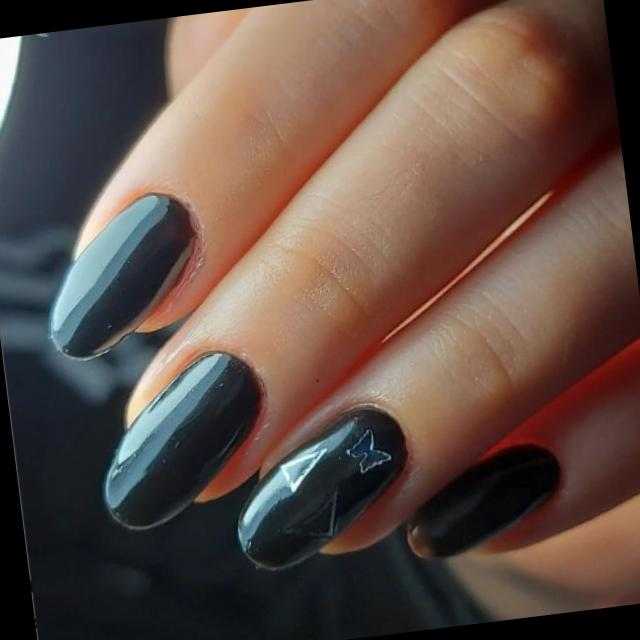Nail: (103, 350, 259, 528), (238, 405, 406, 569), (48, 194, 192, 358), (408, 443, 559, 556)
